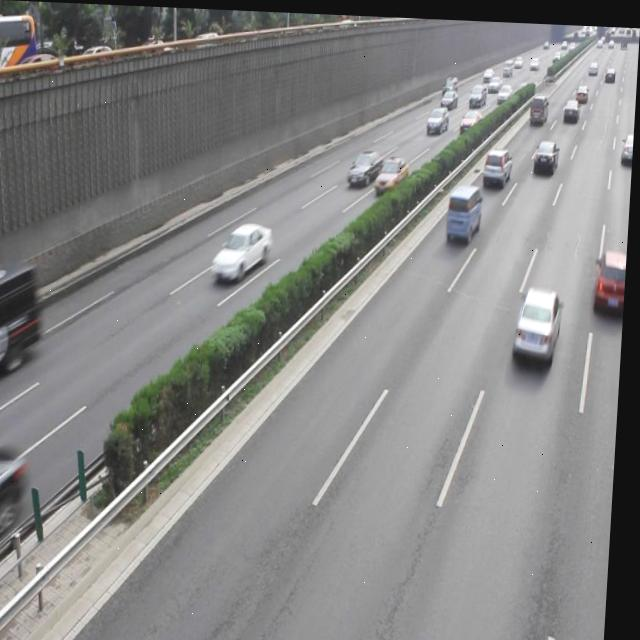car: (0, 444, 32, 569), (213, 218, 274, 281), (515, 280, 564, 358), (595, 242, 630, 311), (447, 178, 484, 237), (347, 145, 383, 184), (376, 153, 410, 191)
truck: (0, 261, 46, 384)
